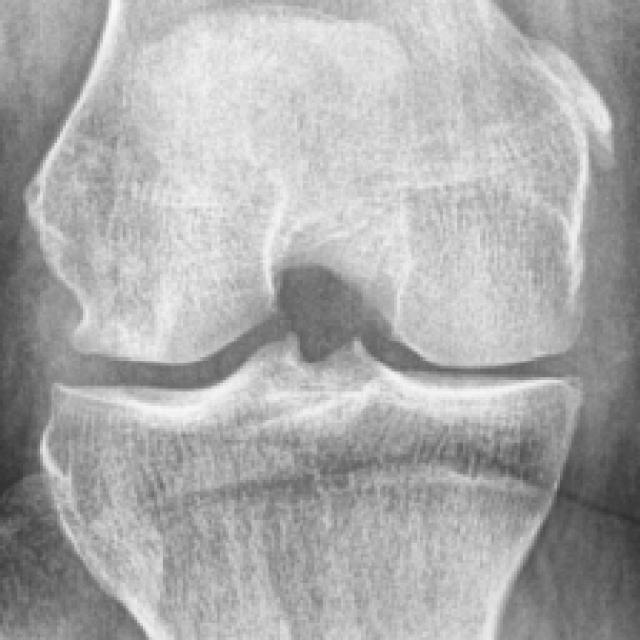femur: (25, 0, 589, 368)
tibia: (41, 337, 583, 640)
